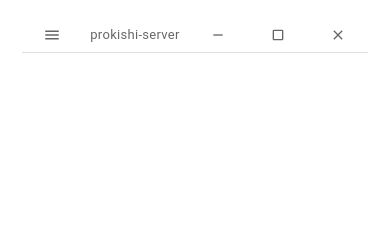
Scenario: TitleBar › opens menu on hamburger click
Click the button with test id "MenuIcon": coordinates (52, 34) [22,16,82,52]
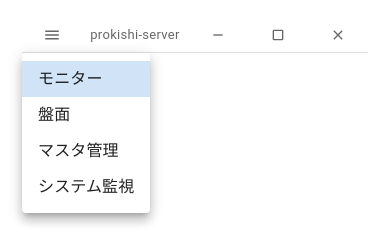
Expected: the menu item "モニター" is shown, [22,61,150,97]
Expected: the menu item "マスタ管理" is shown, [38,141,119,160]
Expected: the menu item "システム監視" is shown, [38,177,134,196]
